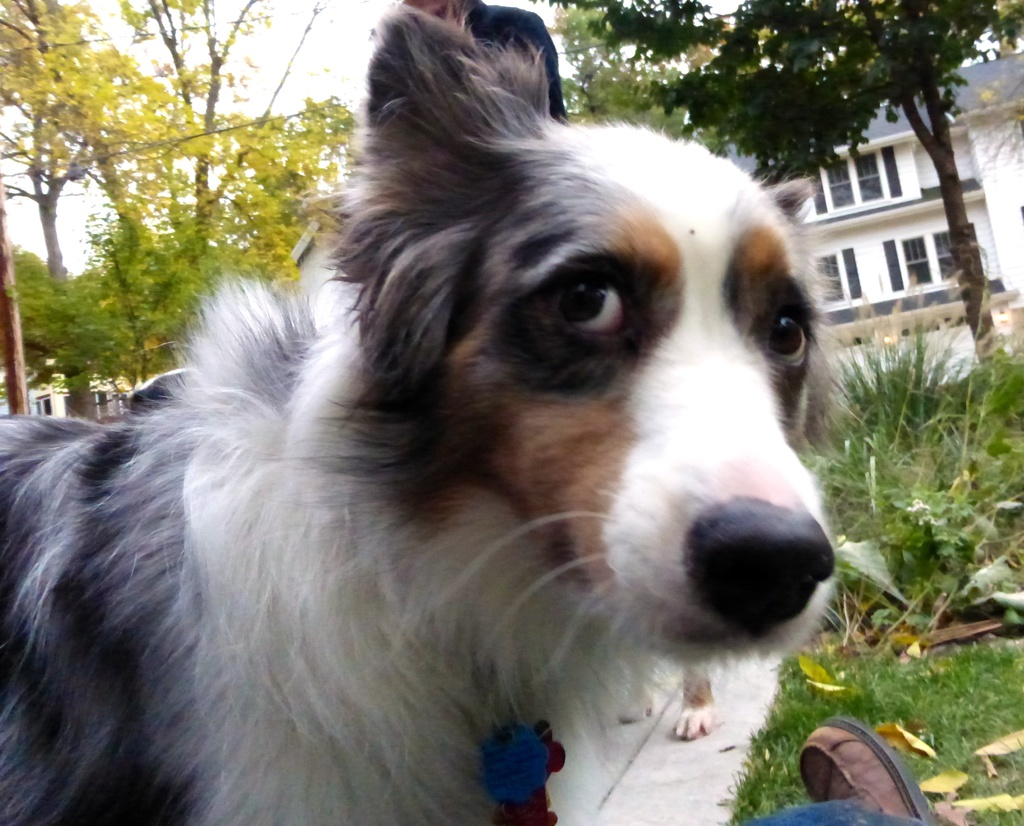Tree: (0, 0, 1024, 422)
